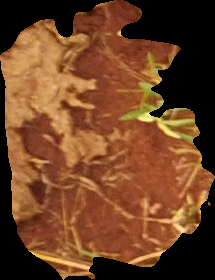soil: (2, 4, 211, 278)
